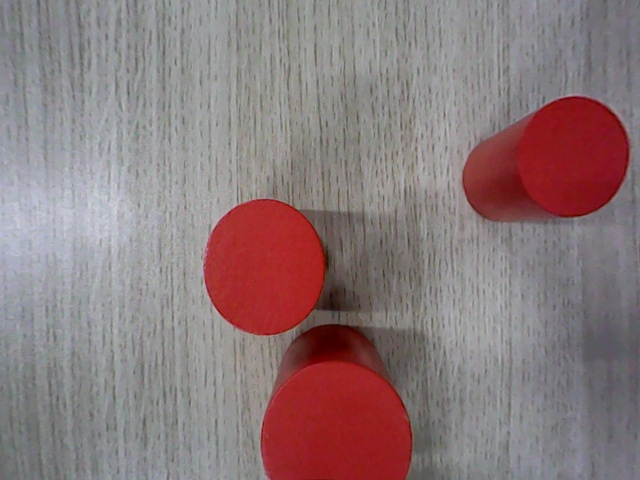upside of cylinder: (261, 361, 412, 479), (204, 198, 326, 335), (519, 96, 630, 217)
